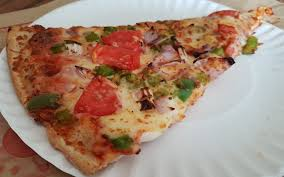pizza: (1, 18, 258, 176)
